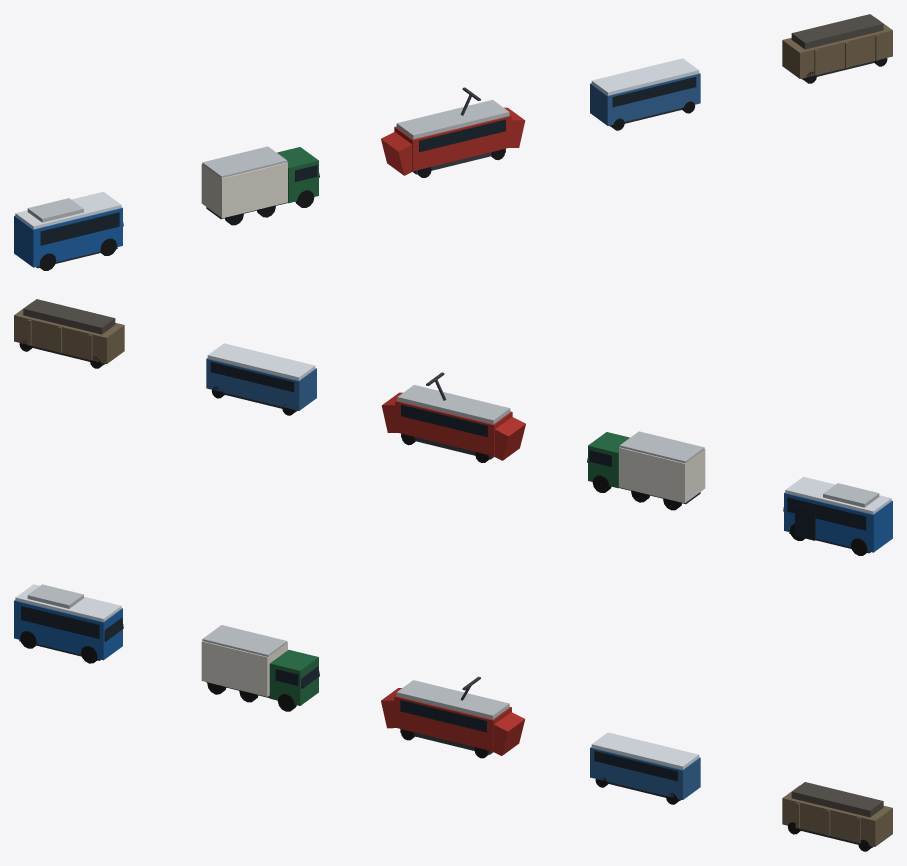
File: vehicles.glb
3 views of the same model, one above another, from view 1: azimuth 30°, elevation 25°; view 2: azimuth 150°, elevation 25°; view 3: azimuth 330°, elevation 25° (orthographic).
Parts seen in each view (by area): view 1: veh_train, veh_truck, veh_bus, wagon_pax, wagon_freight; view 2: veh_train, veh_truck, veh_bus, wagon_pax, wagon_freight; view 3: veh_train, veh_truck, veh_bus, wagon_pax, wagon_freight.
Part boxes in pixels (box(x1,y1,x2,y2)): veh_train: box(381, 87, 525, 177); veh_truck: box(201, 146, 319, 225); veh_bus: box(14, 191, 123, 270); wagon_pax: box(590, 58, 700, 130); wagon_freight: box(782, 14, 892, 83); veh_train: box(381, 372, 525, 462); veh_truck: box(587, 431, 705, 510); veh_bus: box(783, 476, 892, 555); wagon_pax: box(206, 343, 316, 415); wagon_freight: box(14, 299, 124, 368); veh_train: box(381, 676, 525, 758); veh_truck: box(201, 625, 319, 711); veh_bus: box(14, 584, 123, 663); wagon_pax: box(590, 732, 700, 804); wagon_freight: box(782, 782, 892, 851).
Size of the model in its own units: 26.85 by 1.93 by 1.11.
